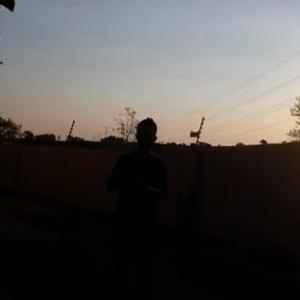follow: (94, 114, 176, 299)
